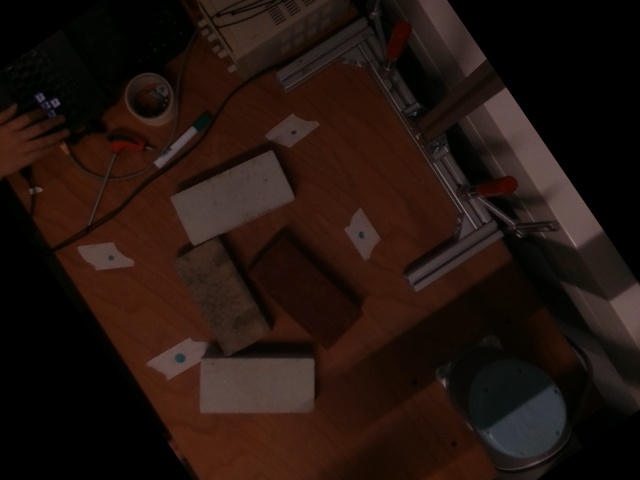brick: (245, 238, 361, 350), (171, 147, 293, 245), (171, 235, 269, 352), (201, 359, 313, 411)
